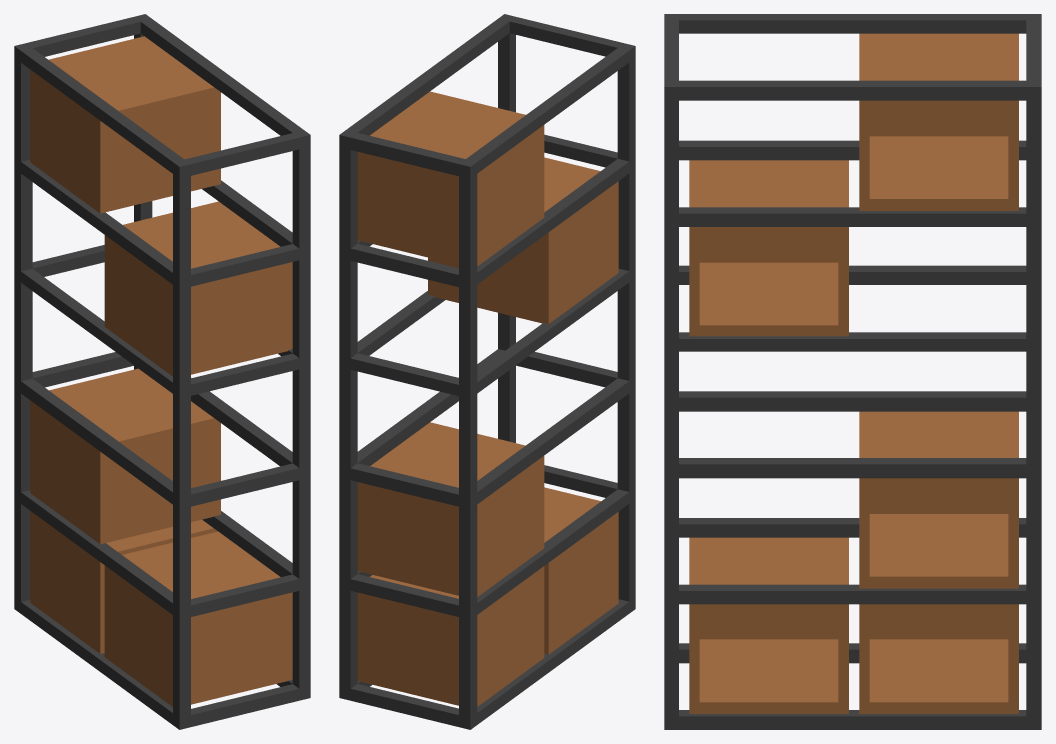
The model's file is kitaplık4.fbx.
The picture shows the model from 3 angles, left to right: view 1: azimuth 30°, elevation 25°; view 2: azimuth 150°, elevation 25°; view 3: azimuth 270°, elevation 25°; orthographic projection. The views are drawn at different scales.
Visible parts, largest first — view 1: Cube, Cube.006, Cube.001, Cube.004, Cube.003, Cube.002; view 2: Cube, Cube.006, Cube.001, Cube.002, Cube.003, Cube.004; view 3: Cube, Cube.006, Cube.004, Cube.003, Cube.001, Cube.002.
Boxes of the visible parts, x1=… form: Cube: x1=14, y1=14, x2=310, y2=729; Cube.006: x1=30, y1=36, x2=220, y2=213; Cube.001: x1=30, y1=368, x2=220, y2=544; Cube.004: x1=104, y1=531, x2=292, y2=706; Cube.003: x1=104, y1=201, x2=292, y2=376; Cube.002: x1=30, y1=511, x2=217, y2=653; Cube: x1=339, y1=14, x2=635, y2=729; Cube.006: x1=357, y1=91, x2=544, y2=266; Cube.001: x1=357, y1=422, x2=544, y2=596; Cube.002: x1=357, y1=566, x2=544, y2=706; Cube.003: x1=428, y1=157, x2=618, y2=323; Cube.004: x1=544, y1=487, x2=618, y2=654; Cube: x1=664, y1=14, x2=1041, y2=729; Cube.006: x1=859, y1=33, x2=1018, y2=210; Cube.004: x1=689, y1=537, x2=848, y2=713; Cube.003: x1=689, y1=160, x2=848, y2=336; Cube.001: x1=859, y1=411, x2=1018, y2=588; Cube.002: x1=859, y1=604, x2=1018, y2=713.
Size of the model in its own units: 298 by 1222 by 650.
